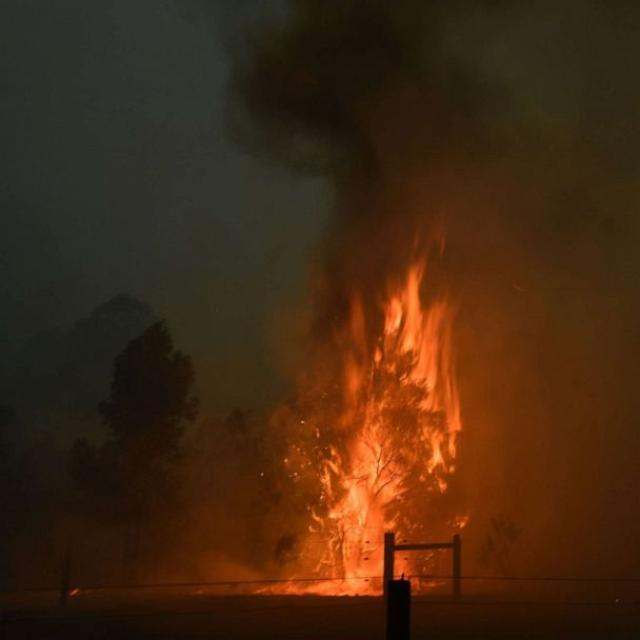Fire: (245, 244, 470, 596)
Smoke: (224, 0, 636, 241), (27, 406, 238, 594), (472, 426, 638, 612), (471, 246, 640, 421)
